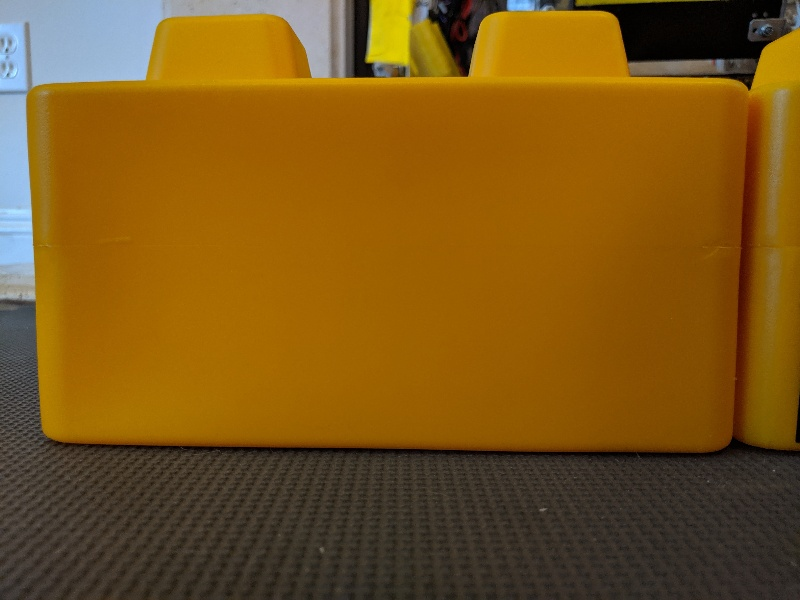ftc_stone: (16, 8, 752, 463)
